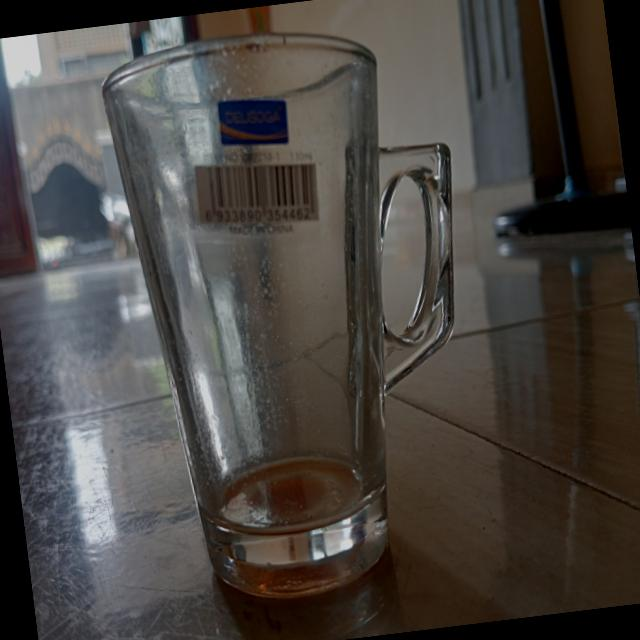glass-VX4N: (94, 11, 504, 616)
